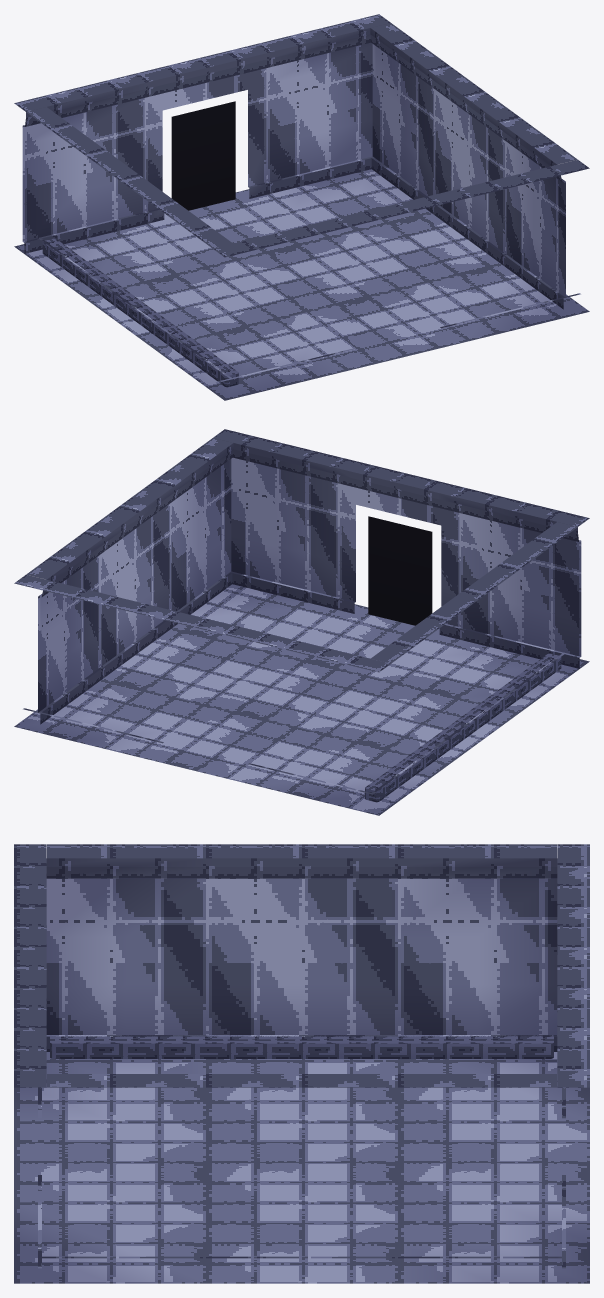
Rendered from cyroom.den.glb.
The picture shows the model from 3 angles, top to bottom: view 1: azimuth 30°, elevation 25°; view 2: azimuth 150°, elevation 25°; view 3: azimuth 270°, elevation 25°; orthographic projection. The views are drawn at different scales.
Visible parts, largest first — view 1: kit_shell_walls, kit_shell_floor, kit_card_lights, kit_trim; view 2: kit_shell_walls, kit_shell_floor, kit_card_lights, kit_trim; view 3: kit_shell_walls, kit_shell_floor, kit_trim.
Boxes of the visible parts, x1,y1,x2,y2 form: kit_shell_walls: (14, 14, 589, 383); kit_shell_floor: (14, 169, 589, 400); kit_card_lights: (171, 101, 235, 210); kit_trim: (42, 238, 238, 387); kit_shell_walls: (14, 429, 589, 798); kit_shell_floor: (14, 584, 589, 815); kit_card_lights: (368, 516, 432, 625); kit_trim: (365, 653, 561, 802); kit_shell_walls: (14, 844, 589, 1268); kit_shell_floor: (14, 1052, 589, 1283); kit_trim: (50, 1035, 553, 1058).
Size of the model in its own units: 12 by 4.5 by 12.
7 materials, 7 textured.
